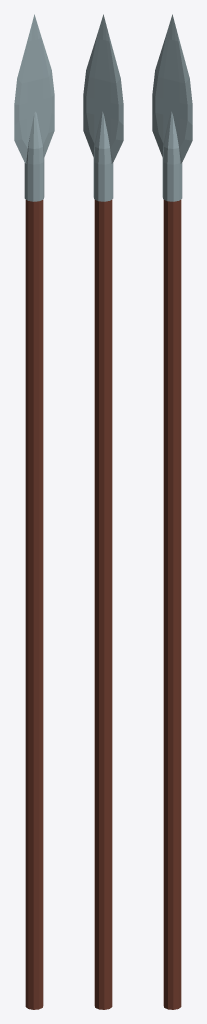
File: Spear.fbx
The picture shows the model from 3 angles, left to right: view 1: azimuth 30°, elevation 25°; view 2: azimuth 150°, elevation 25°; view 3: azimuth 330°, elevation 25°; orthographic projection.
Visible parts, largest first — view 1: Cube; view 2: Cube; view 3: Cube.
Boxes of the visible parts, box(x1,y1,x2,y2) form: Cube: box(14, 14, 54, 1009); Cube: box(83, 14, 123, 1009); Cube: box(152, 14, 192, 1009).
Size of the model in its own units: 32 by 752 by 13.88.
